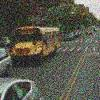buses: (7, 26, 61, 64)
